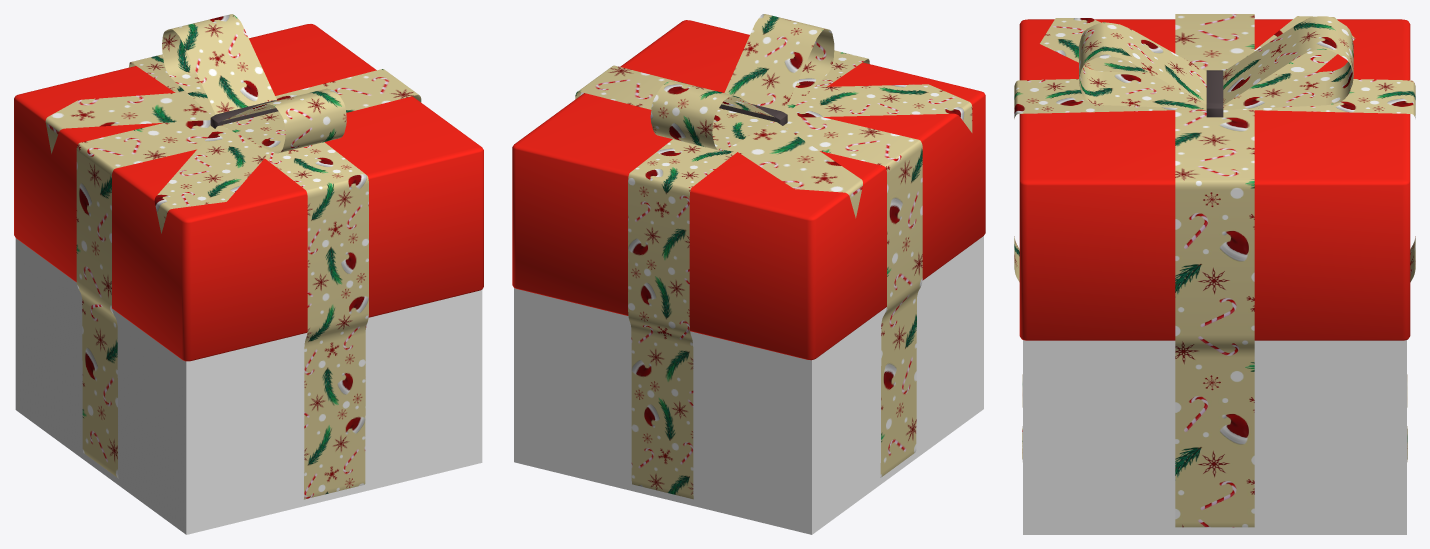
Rendered from Presente2.fbx.
3 views of the same model, side by side, from view 1: azimuth 30°, elevation 25°; view 2: azimuth 150°, elevation 25°; view 3: azimuth 270°, elevation 25° (orthographic). The views are drawn at different scales.
Parts seen in each view (by area): view 1: Cube.001, Cube__1_, Plane.001, Plane, Plane.002, Plane.004, Plane.003, Plane.005, Cube.002; view 2: Cube.001, Cube__1_, Plane.001, Plane, Plane.003, Plane.002, Plane.004, Plane.005, Cube.002; view 3: Cube.001, Cube__1_, Plane, Plane.002, Plane.003, Plane.001, Plane.004, Plane.005, Cube.002.
Part boxes in pixels (x1,y1,x2,y2): Cube.001: (14,24,483,361); Cube__1_: (15,238,482,534); Plane.001: (129,54,368,499); Plane: (76,69,421,478); Plane.002: (162,14,276,116); Plane.004: (154,125,270,233); Plane.003: (221,88,346,153); Plane.005: (45,92,212,153); Cube.002: (210,100,278,128); Cube.001: (512,20,985,360); Cube__1_: (514,236,983,534); Plane.001: (628,50,869,499); Plane: (575,65,922,477); Plane.003: (724,14,834,113); Plane.002: (650,80,774,150); Plane.004: (787,84,972,132); Plane.005: (730,122,862,218); Cube.002: (719,104,787,125); Cube.001: (1019,19,1410,340); Cube__1_: (1023,340,1406,534); Plane: (1175,14,1254,527); Plane.002: (1223,16,1353,109); Plane.003: (1079,22,1206,108); Plane.001: (1014,79,1415,461); Plane.004: (1040,18,1149,73); Plane.005: (1248,16,1355,74); Cube.002: (1206,70,1223,117).
Bounding box in the file's own units: 105 × 122 × 105.
Materials: 4 (1 with a texture image).
